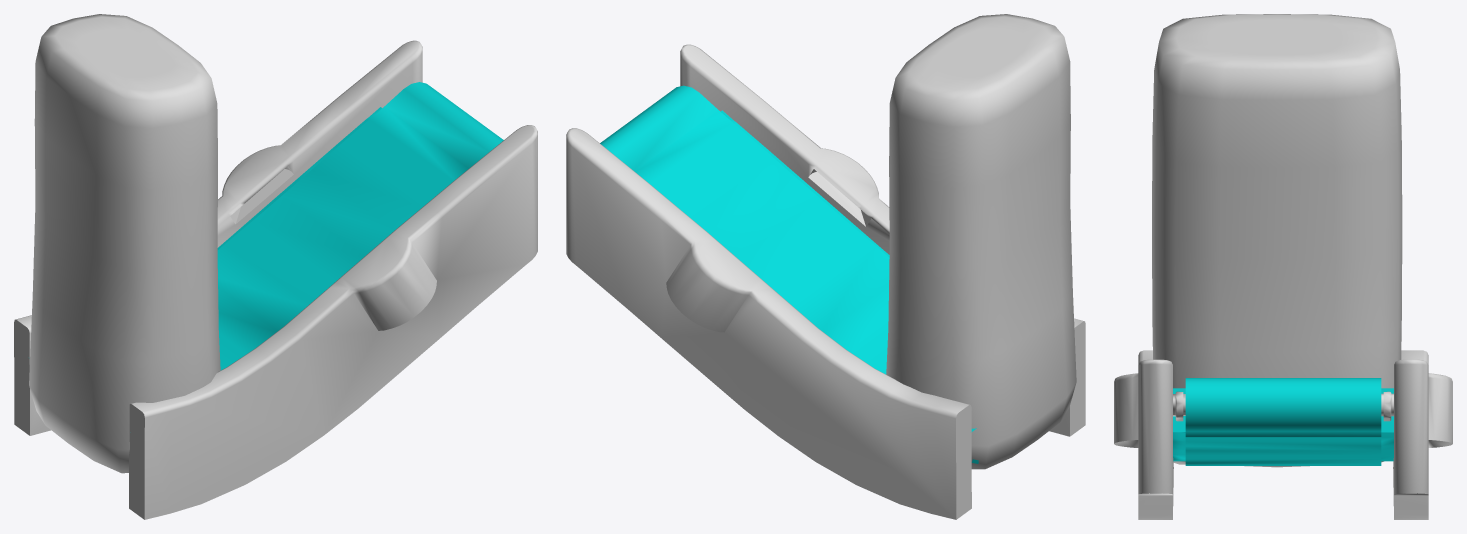
File: FluidPortReceiverInternalVariant.gltf
3 views of the same model, side by side, from view 1: azimuth 30°, elevation 25°; view 2: azimuth 150°, elevation 25°; view 3: azimuth 270°, elevation 25° (orthographic). The views are drawn at different scales.
Parts seen in each view (by area): view 1: BeltPort_Receiver_Main_LOD0.001, FluidBridgeReceiver_Container_Glass; view 2: BeltPort_Receiver_Main_LOD0.001, FluidBridgeReceiver_Container_Glass; view 3: FluidBridgeReceiver_Container_Glass, BeltPort_Receiver_Main_LOD0.001.
Boxes of the visible parts, x1=… form: BeltPort_Receiver_Main_LOD0.001: x1=14, y1=40, x2=537, y2=519; FluidBridgeReceiver_Container_Glass: x1=29, y1=14, x2=220, y2=473; BeltPort_Receiver_Main_LOD0.001: x1=566, y1=44, x2=1085, y2=519; FluidBridgeReceiver_Container_Glass: x1=886, y1=14, x2=1076, y2=469; FluidBridgeReceiver_Container_Glass: x1=1152, y1=14, x2=1402, y2=467; BeltPort_Receiver_Main_LOD0.001: x1=1114, y1=350, x2=1452, y2=519.
Bounding box in the file's own units: 1.05 × 0.9809 × 0.6631.
